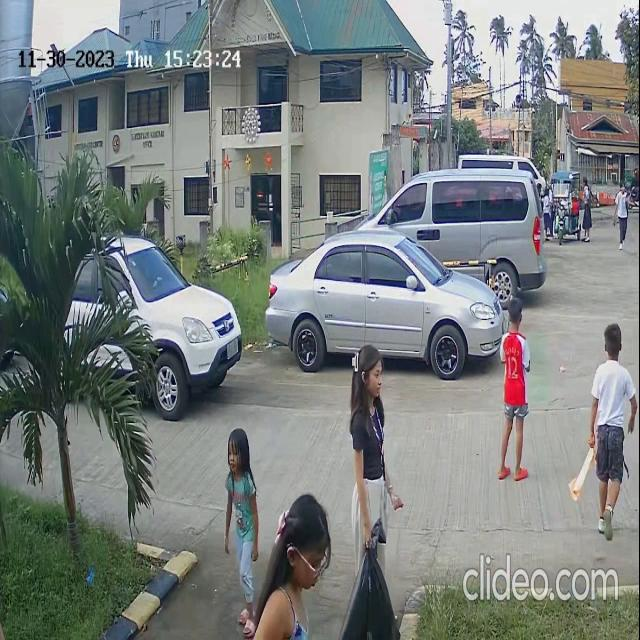person: (589, 322, 637, 398), (501, 299, 531, 400)
